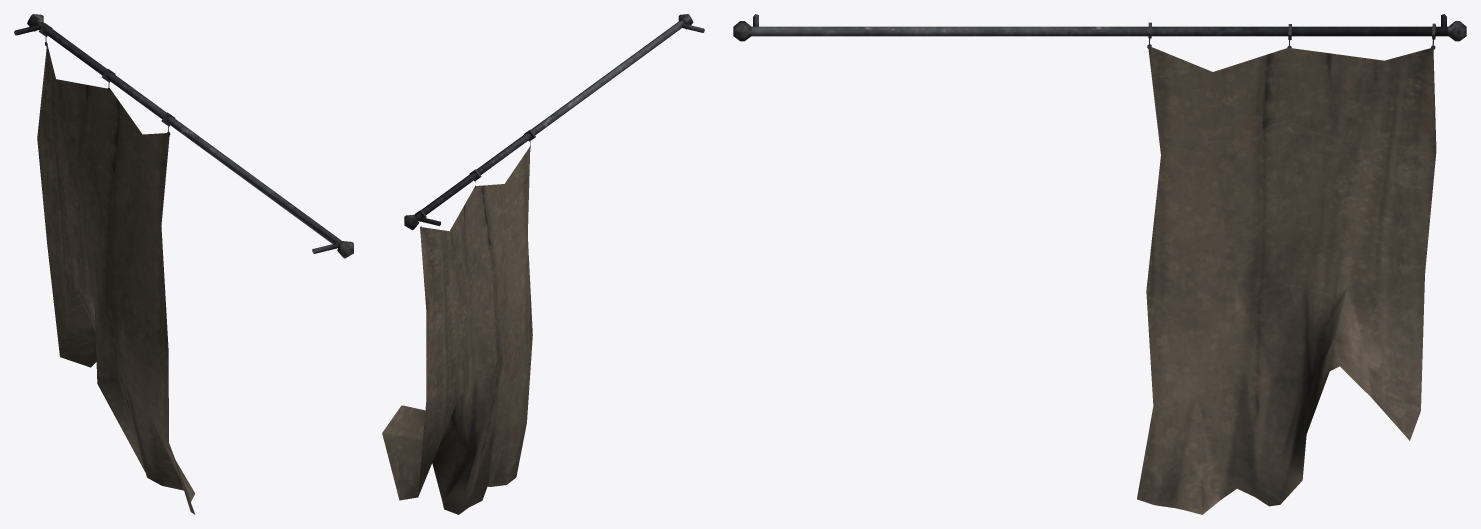
File: Double_CheapCurtainSet_T03.FBX
The picture shows the model from 3 angles, left to right: view 1: azimuth 30°, elevation 25°; view 2: azimuth 150°, elevation 25°; view 3: azimuth 270°, elevation 25°; orthographic projection. The views are drawn at different scales.
Parts seen in each view (by area): view 1: Double_CheapCurtainSet_T03; view 2: Double_CheapCurtainSet_T03; view 3: Double_CheapCurtainSet_T03.
Boxes of the visible parts, x1,y1,x2,y2 form: Double_CheapCurtainSet_T03: (14, 14, 353, 514); Double_CheapCurtainSet_T03: (382, 14, 704, 514); Double_CheapCurtainSet_T03: (733, 14, 1466, 514).
Size of the model in its own units: 48.37 by 194 by 275.
